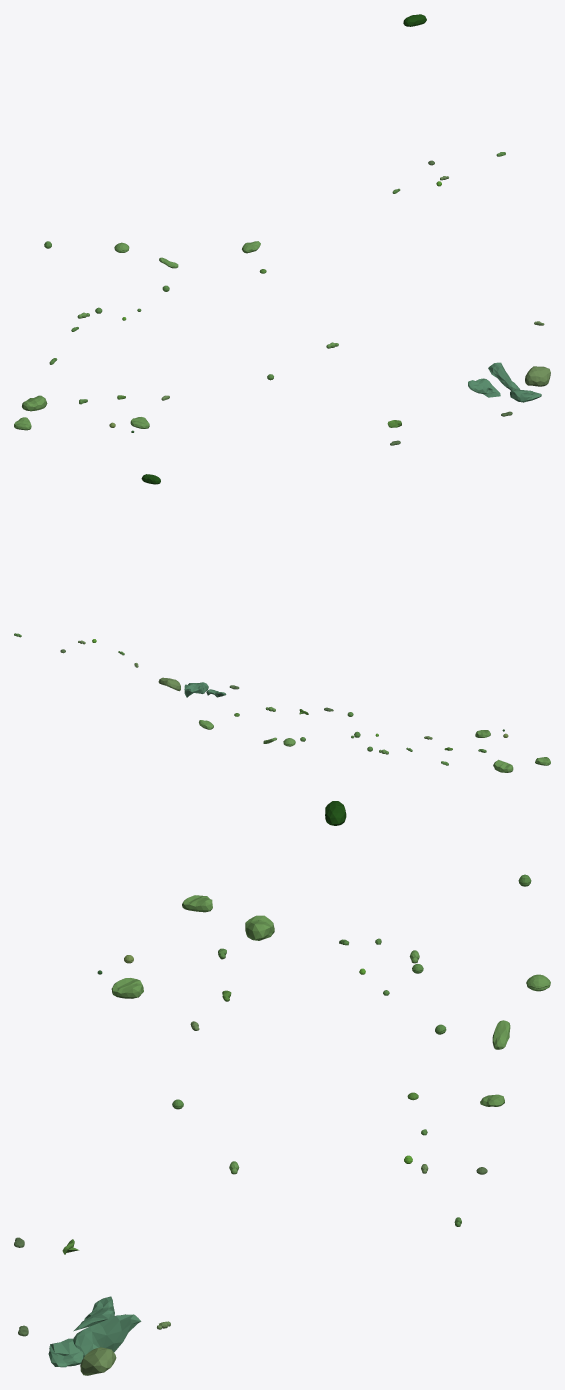
File: 1_Forest_C_덤불+덩굴.fbx
3 renders of one model, top to bottom at view 1: azimuth 30°, elevation 25°; view 2: azimuth 150°, elevation 25°; view 3: azimuth 270°, elevation 25°, orthographic. The views are drawn at different scales.
Visible parts, largest first — view 1: no part large enough to name; view 2: no part large enough to name; view 3: 덤불.006, 덤불.007, 덤불.008.
Part boxes in pixels (left/top/right/bottom): 덤불.006: left=73, top=1314, right=141, bottom=1357; 덤불.007: left=48, top=1338, right=83, bottom=1367; 덤불.008: left=80, top=1347, right=116, bottom=1375.
Size of the model in its own units: 26573 by 52802 by 29042.
